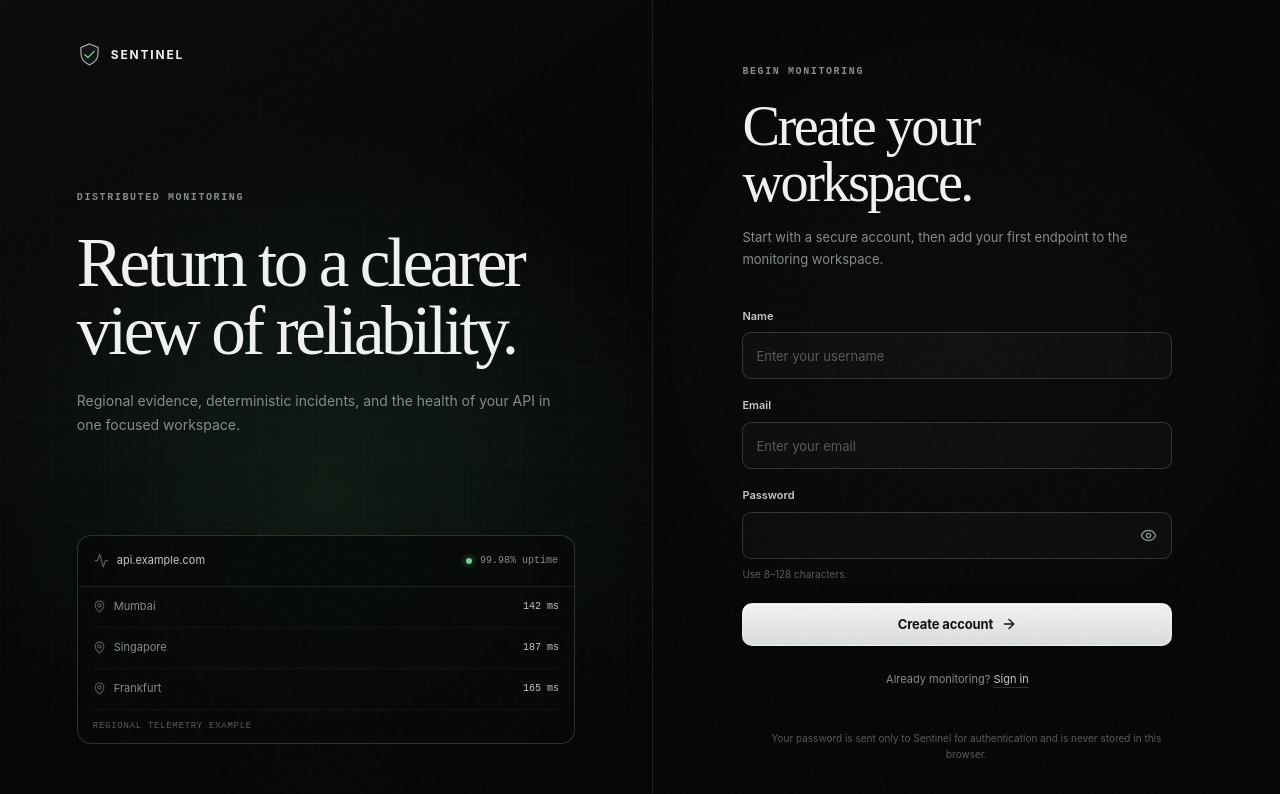
Test: Sentinel authentication routes › validates registration fields against backend bounds
This screenshot has width=1280, height=794.
Click the button "Create account": (957, 624) [742,603,1172,646]
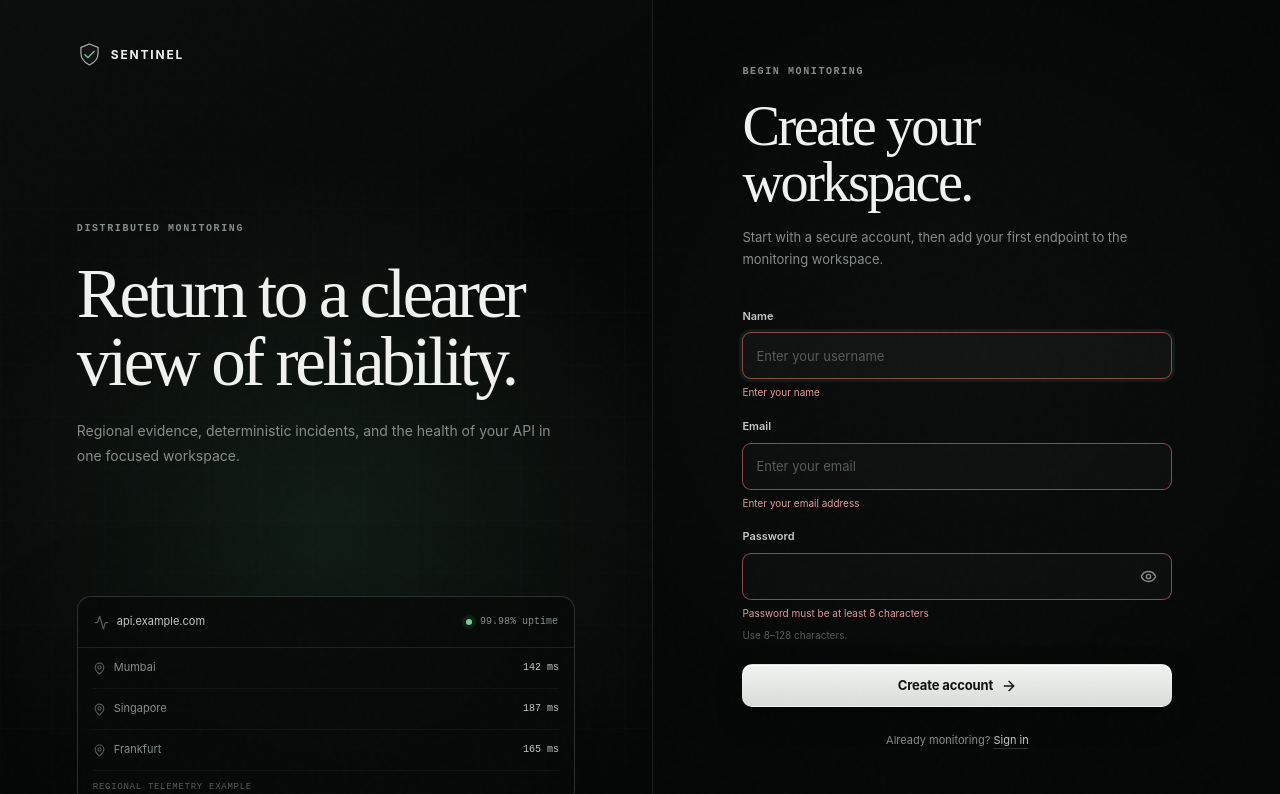
Check: the text "Enter your name" is shown, box [742,386,820,398]
Check: the text "Enter your email address" is shown, box [742,496,860,508]
Check: the text "Password must be at least 8 characters" is shown, box [742,607,929,619]
